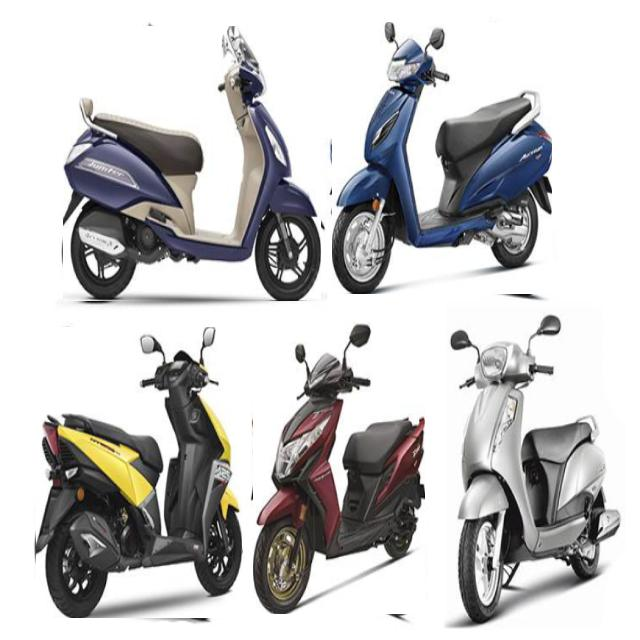motorcycle: (63, 27, 320, 301), (332, 22, 551, 294), (36, 328, 241, 618), (447, 313, 620, 622), (253, 323, 424, 614)
